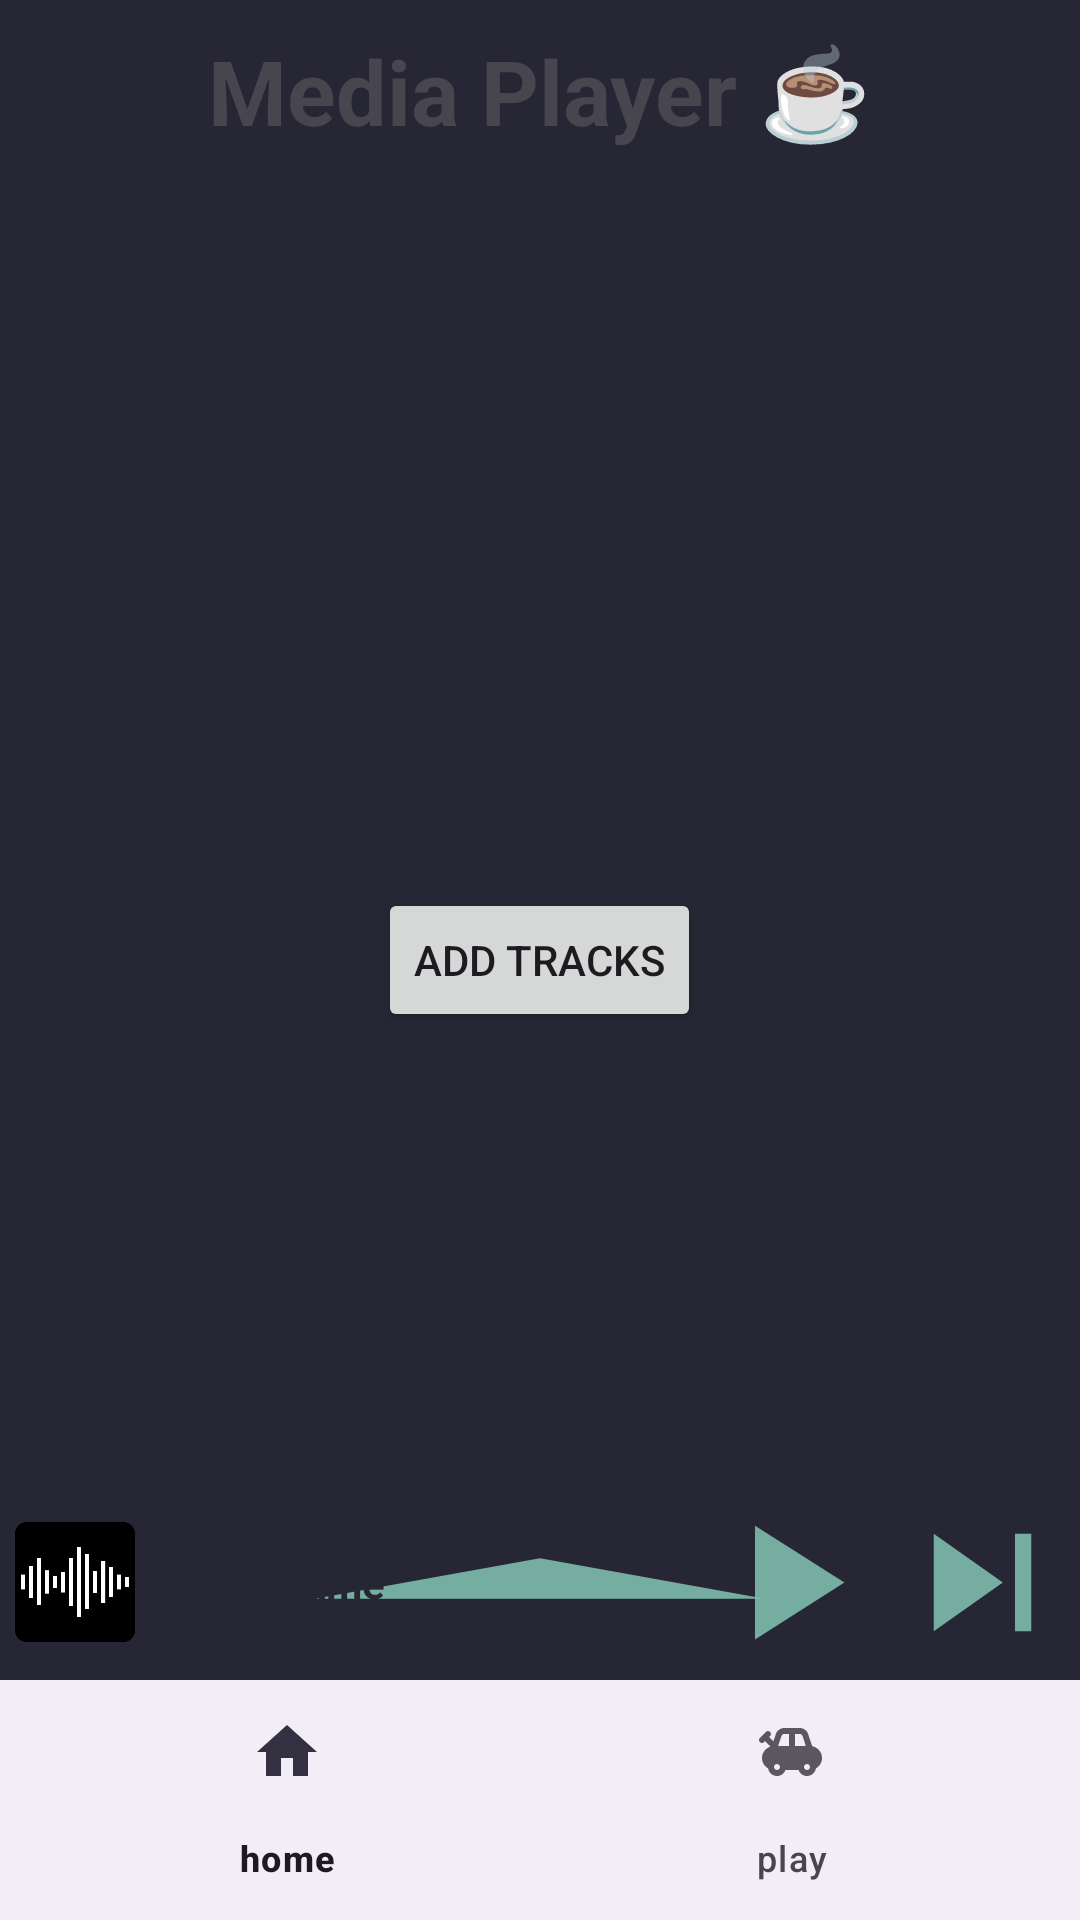

Screen size 1080px×1920px. Icon name, then its center in pixels as point (x, y):
skip main: point (982, 1582)
waves: point (75, 1582)
